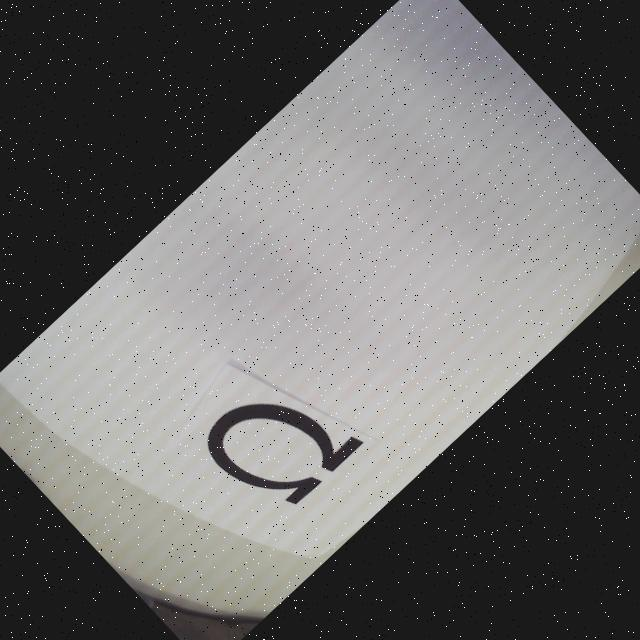OMEGA: (196, 357, 366, 526)
